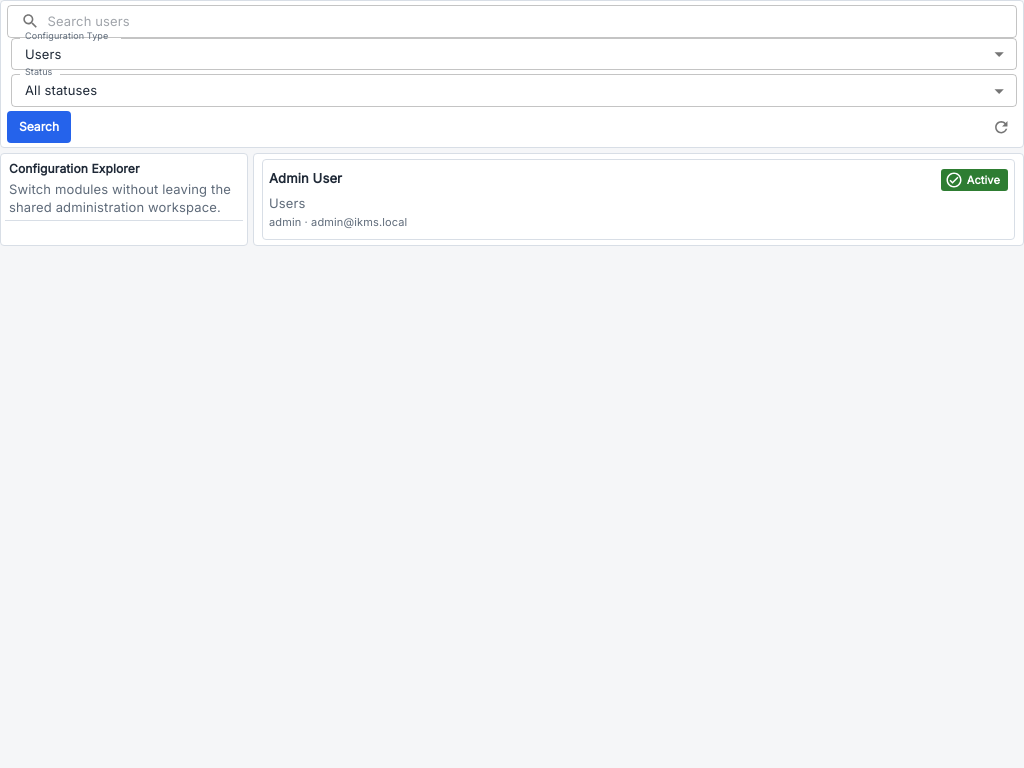
Scenario: AdminConfigurationPage › uses the mobile list pattern and opens the editor drawer from a selected item
Click the text "Admin User" at {"x": 308, "y": 178}, box [269,169,346,187]
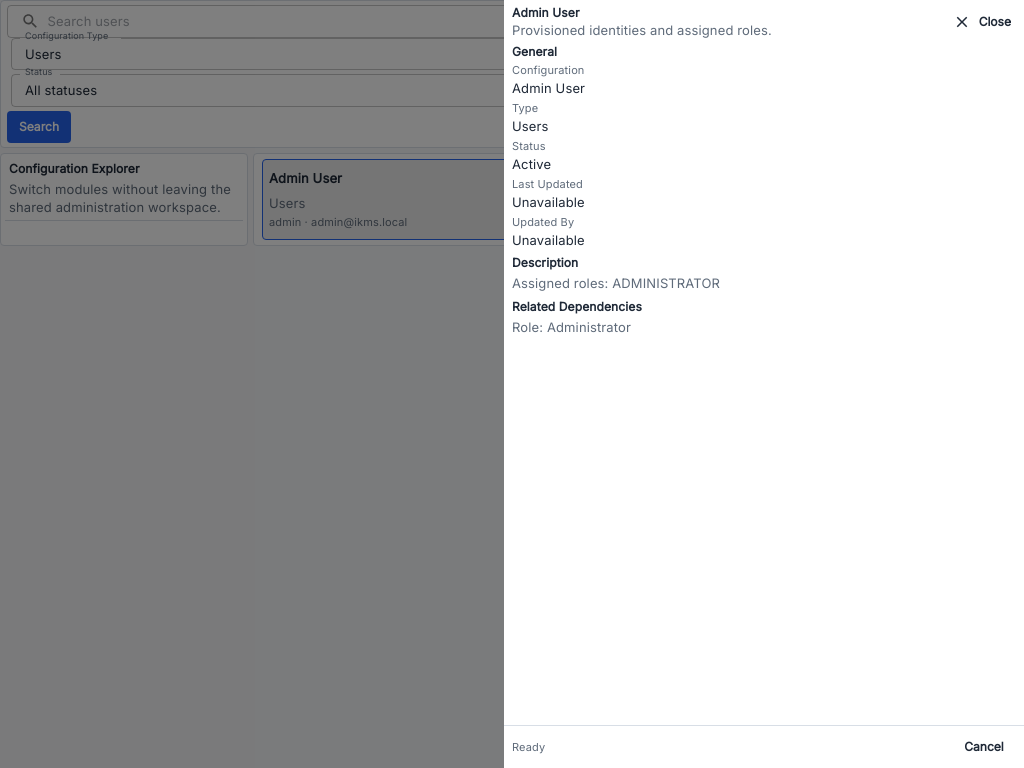
Now the text "Assigned roles: ADMINISTRATOR" is shown, box [512,275,720,291]
Now the button "Close" is shown, box [950,6,1016,38]
